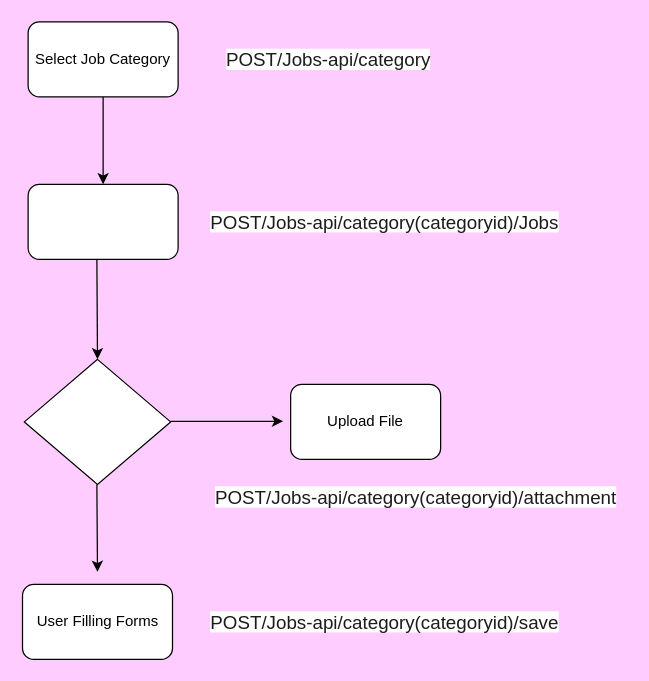
Some shapes in this 649 by 681 pixel diagram are drawn without their labels. Each missing label, with the centre of its shape:
Create Job: (102,221)
User Selection Options: (97,421)
